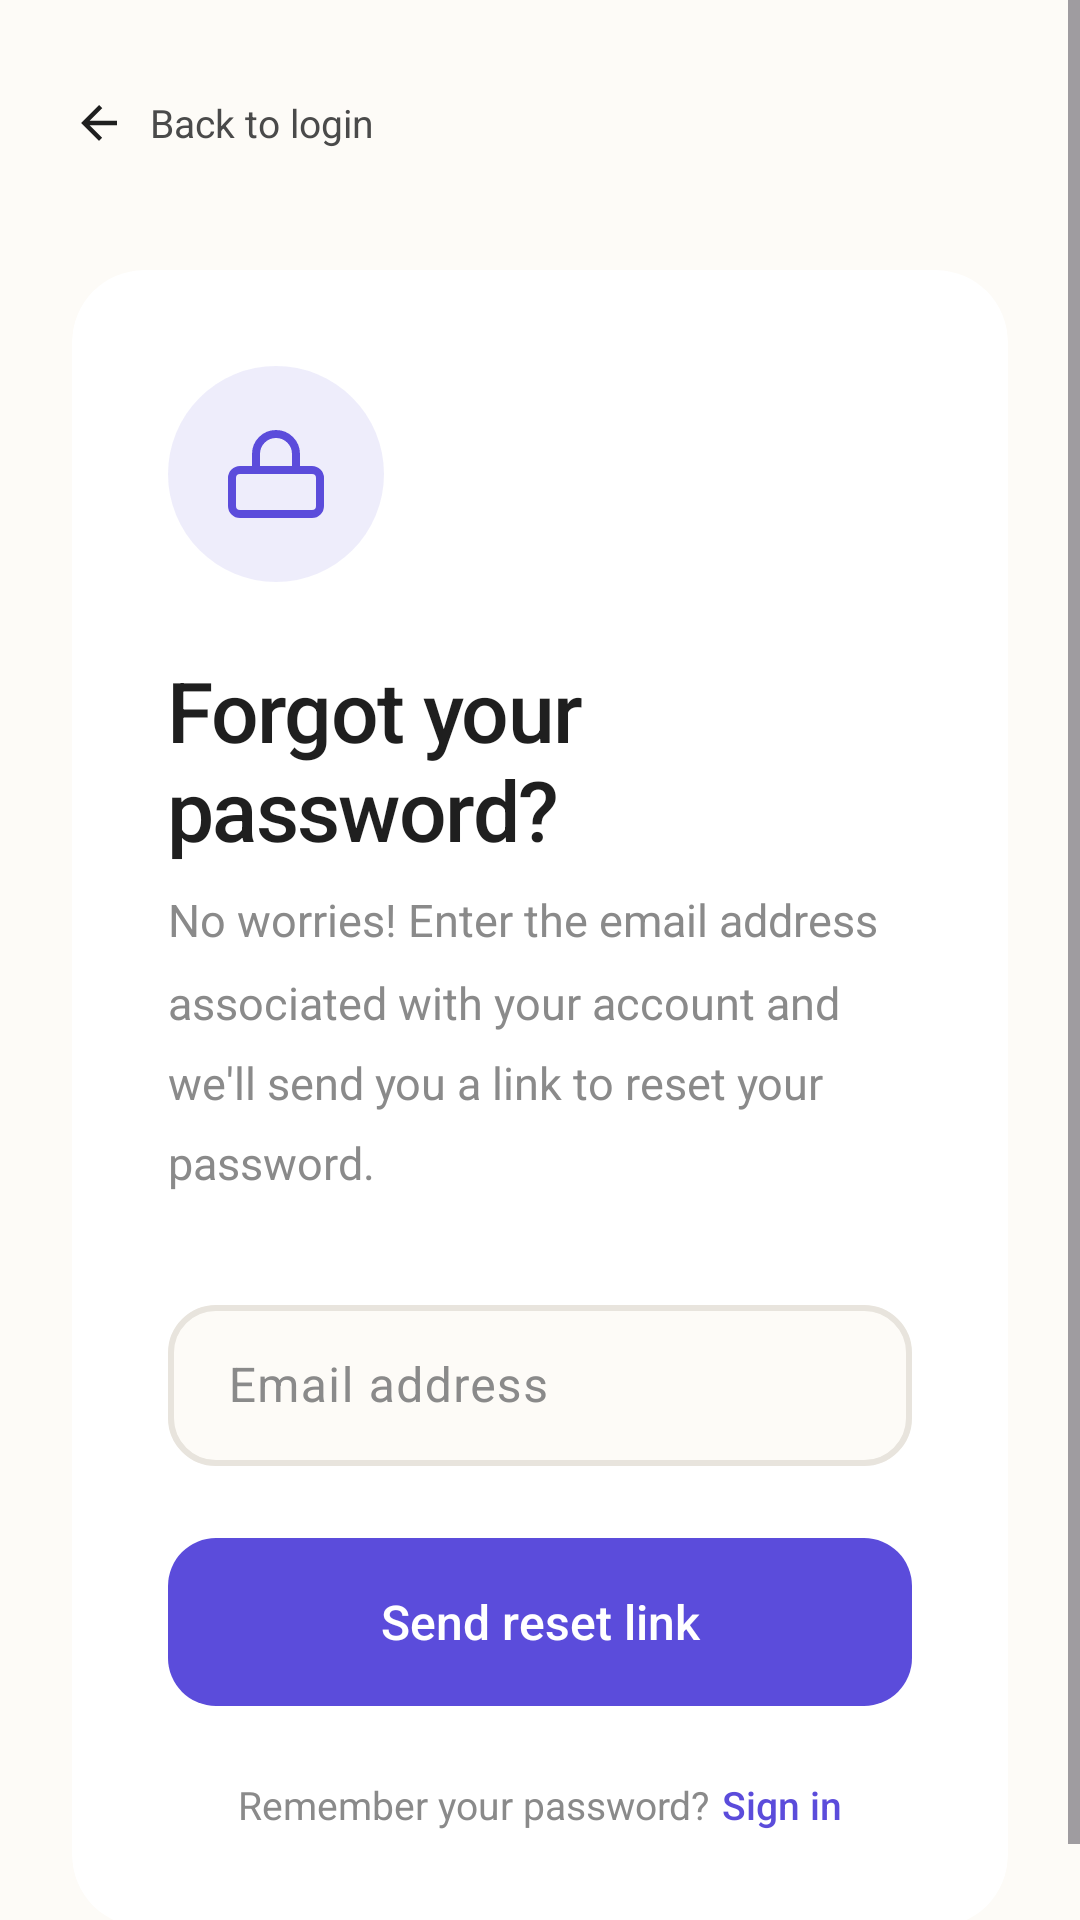

Where to tap for icons on this 1080*1920 app screen, as [x,y]:
lock: [276,474]
